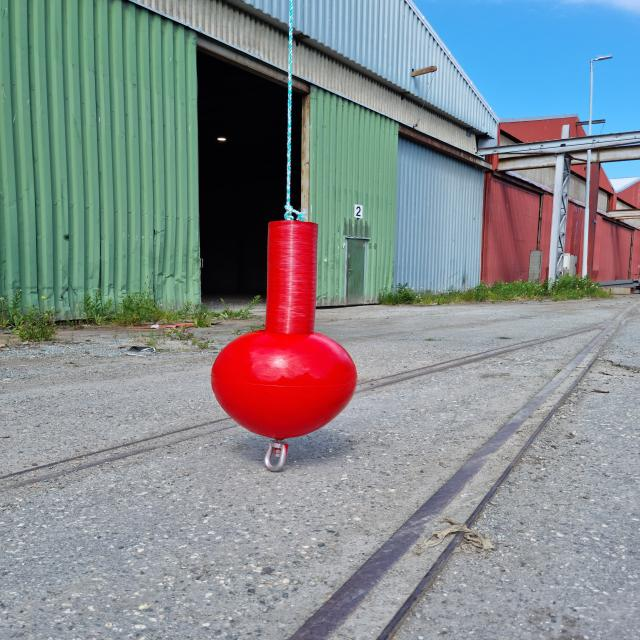red: (211, 220, 357, 440)
